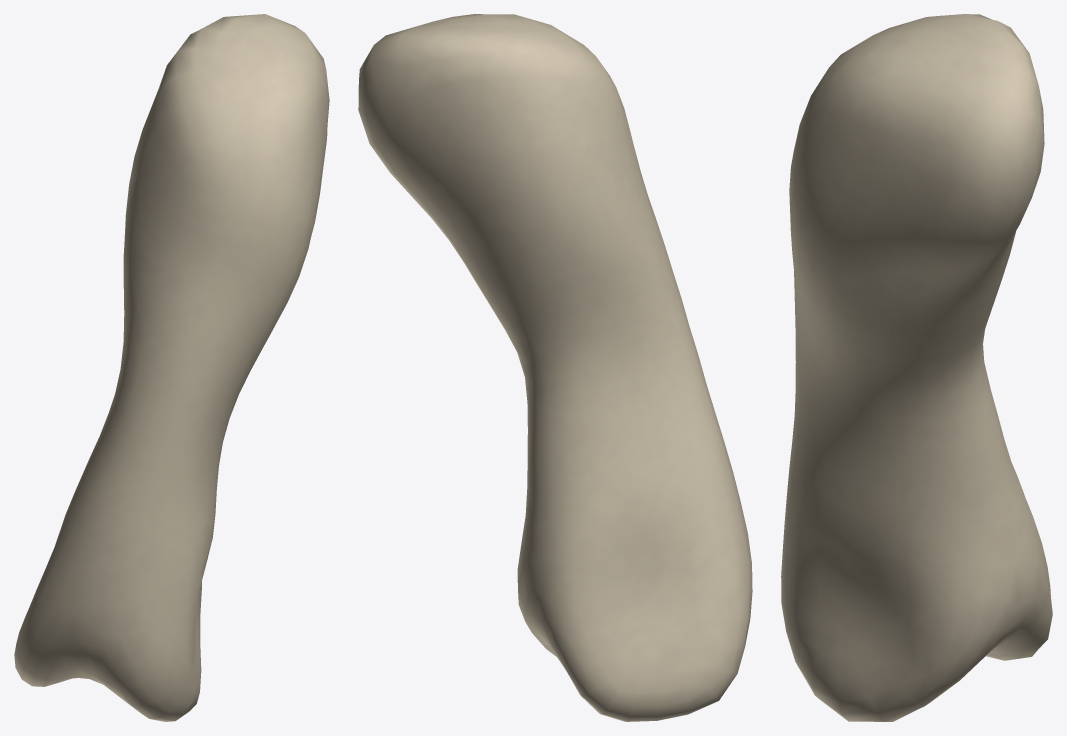
Rendered from L metacarpi primum.fbx.
3 renders of one model, left to right at view 1: azimuth 30°, elevation 25°; view 2: azimuth 150°, elevation 25°; view 3: azimuth 270°, elevation 25°, orthographic. The views are drawn at different scales.
Visible parts, largest first — view 1: L metacarpi primum; view 2: L metacarpi primum; view 3: L metacarpi primum.
Boxes of the visible parts, left/top/right/bottom form: L metacarpi primum: left=14, top=14, right=329, bottom=721; L metacarpi primum: left=358, top=14, right=752, bottom=721; L metacarpi primum: left=781, top=14, right=1052, bottom=721.
Bounding box in the file's own units: 2.1 × 3.85 × 1.27.
